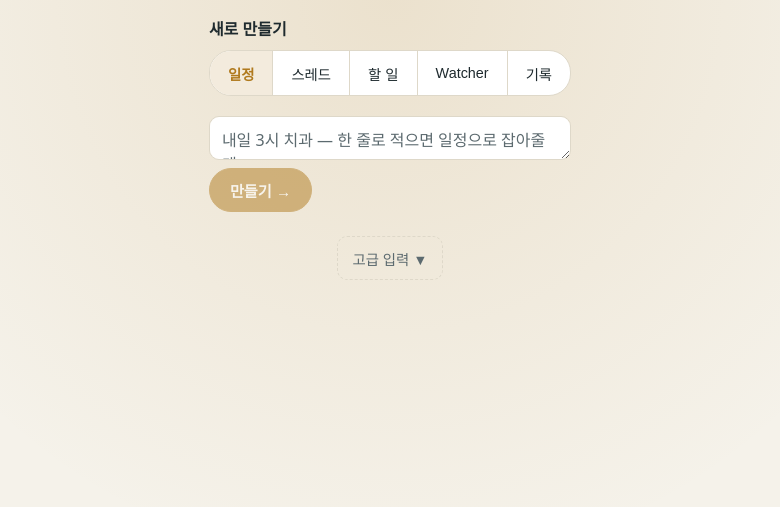
it: InputHub — Composer 일정 mode › valid capture posts and shows saved message
expect the element with test id "input-quiet" is shown: met, box [209,18,571,280]
Type "내일 3시 치과" into the text box named "만들기 입력" at (390, 138), box [209,116,571,160]
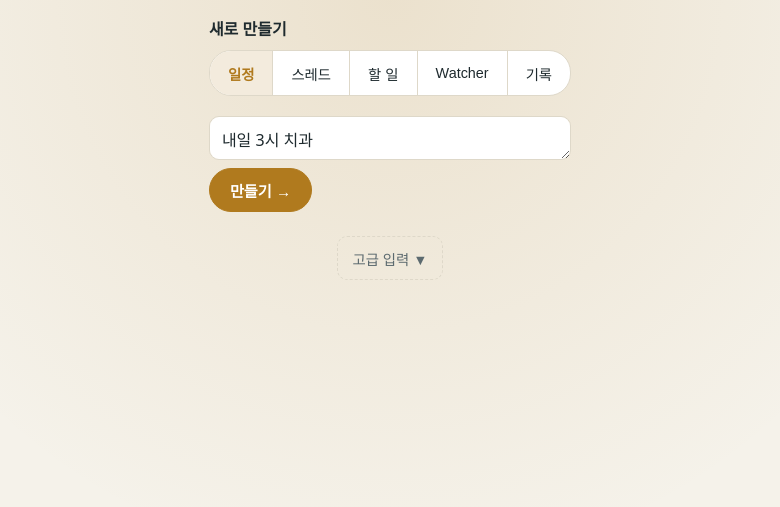
Click the button labelled "만들기 →" at (261, 190), box [209,168,312,212]
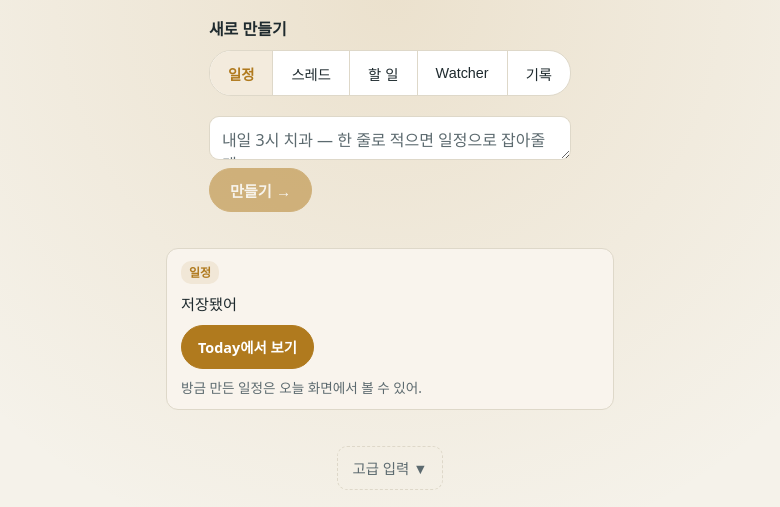
expect the text "저장됐어" is shown: met, box [181,294,237,314]
